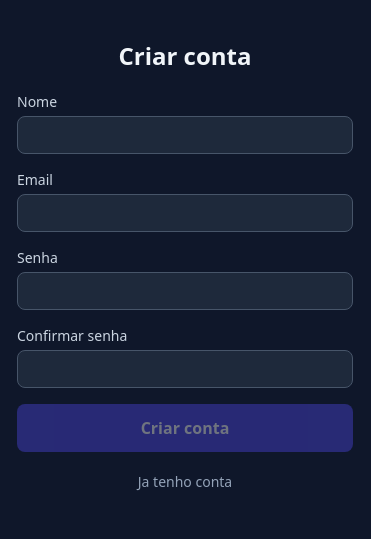
Test: Register › shows a message when the email already exists
The width and height of the screenshot is (371, 539).
Type "Joao" into the field labelled "Nome" at (185, 135), box 17,116 -> 353,154
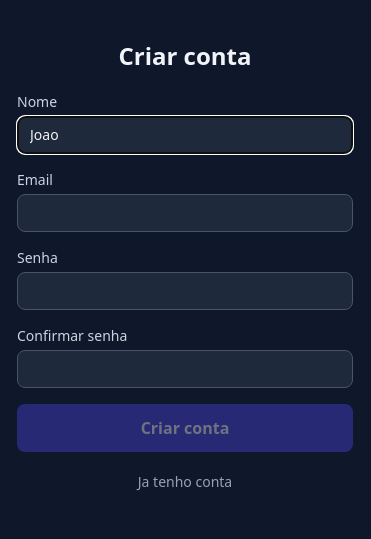
Type "joao@example.com" into the field labelled "Email" at (185, 213), box 17,194 -> 353,232
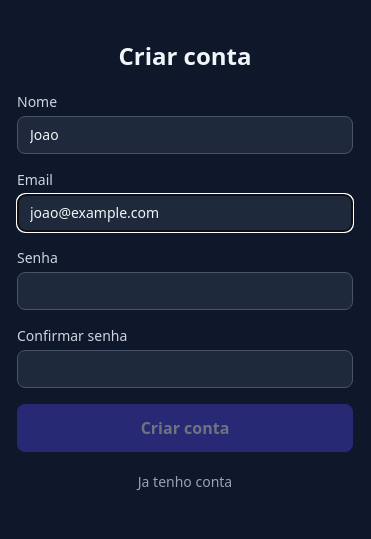
Type "supersecret" into the password field labelled "Senha" at (185, 291), box 17,272 -> 353,310
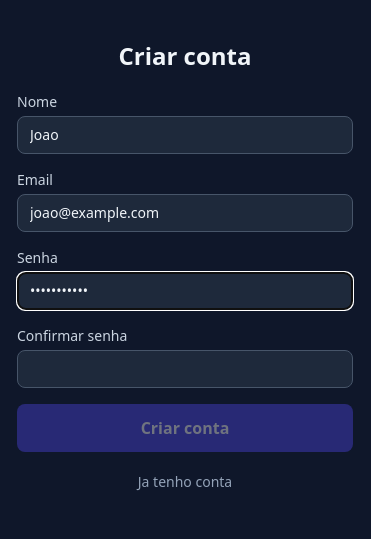
Type "supersecret" into the password field labelled "Confirmar senha" at (185, 369), box 17,350 -> 353,388
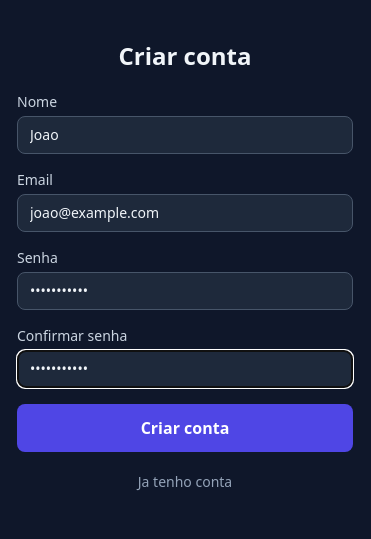
Click the button "Criar conta" at (185, 428), box 17,404 -> 353,452
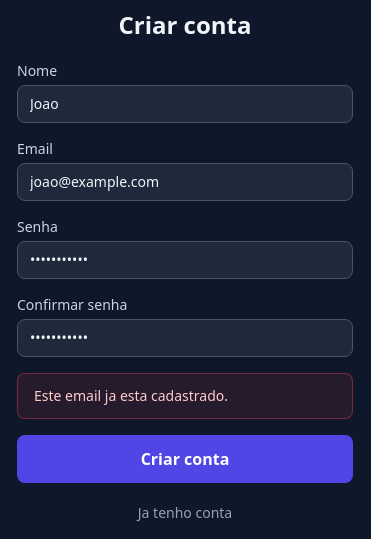
expect the text "Este email ja esta cadastrado." is shown: met, box 34,386 -> 228,405
